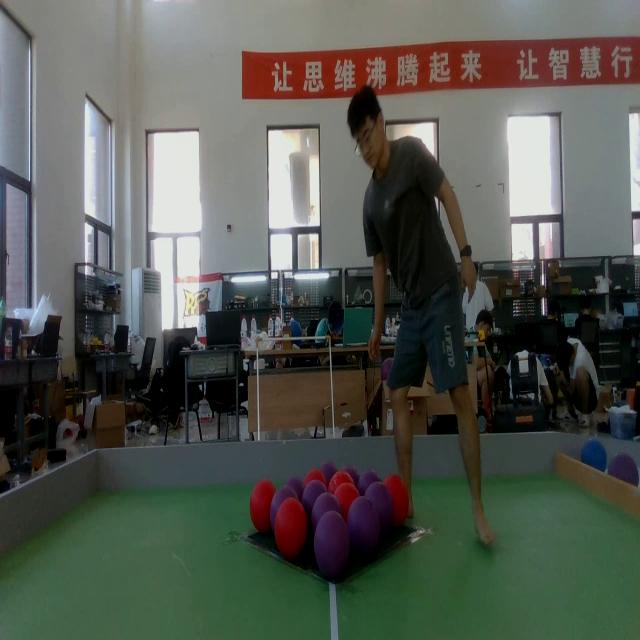invalid: (364, 482, 397, 545), (317, 513, 348, 578), (348, 498, 382, 555), (607, 452, 640, 504)
red: (274, 494, 308, 554), (249, 478, 277, 536), (384, 471, 410, 526), (333, 487, 360, 516), (327, 470, 354, 498), (305, 466, 327, 496)
